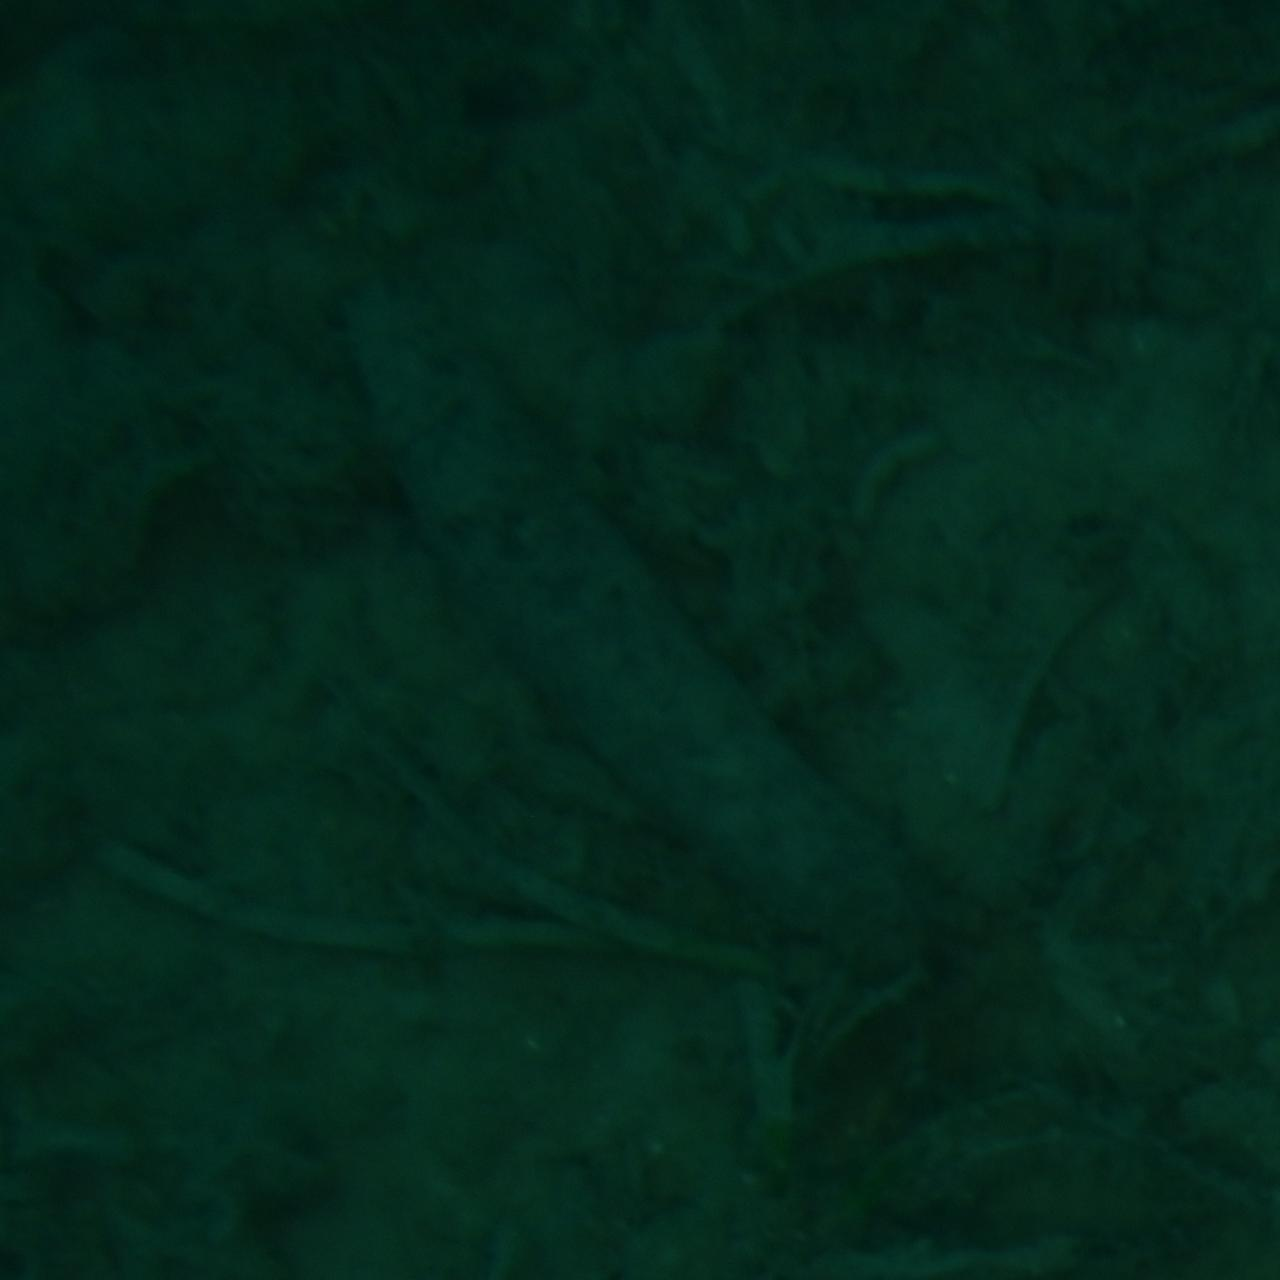Holothuria tubulosa: (342, 263, 938, 1017)
